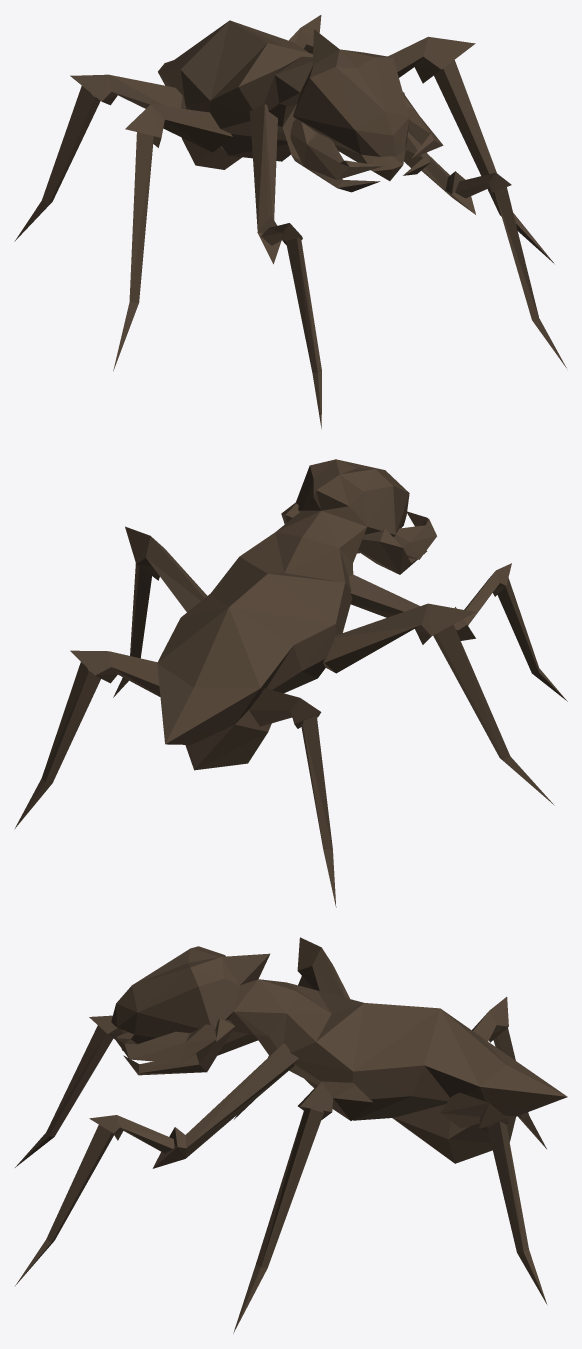
Rendered from CRW_BODY.OBJ.
The picture shows the model from 3 angles, top to bottom: view 1: azimuth 30°, elevation 25°; view 2: azimuth 150°, elevation 25°; view 3: azimuth 270°, elevation 25°; orthographic projection.
Parts seen in each view (by area): view 1: CRW_BODY; view 2: CRW_BODY; view 3: CRW_BODY.
Part boxes in pixels (x1=…): CRW_BODY: x1=14, y1=15, x2=566, y2=428; CRW_BODY: x1=14, y1=459, x2=567, y2=907; CRW_BODY: x1=15, y1=937, x2=567, y2=1333.
Bounding box in the file's own units: 2.43 × 1.45 × 2.66.
